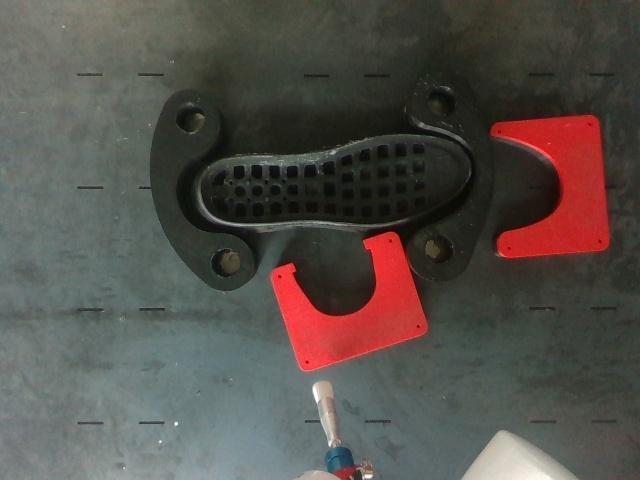shoes: (199, 137, 471, 226)
